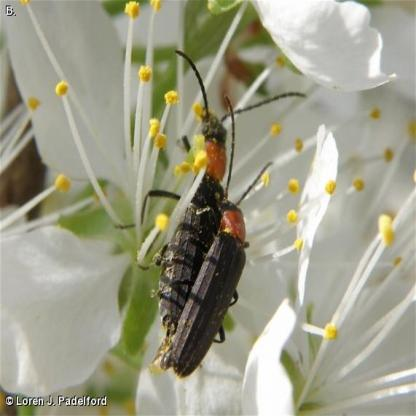beetle: (154, 51, 233, 338), (168, 171, 256, 385)
